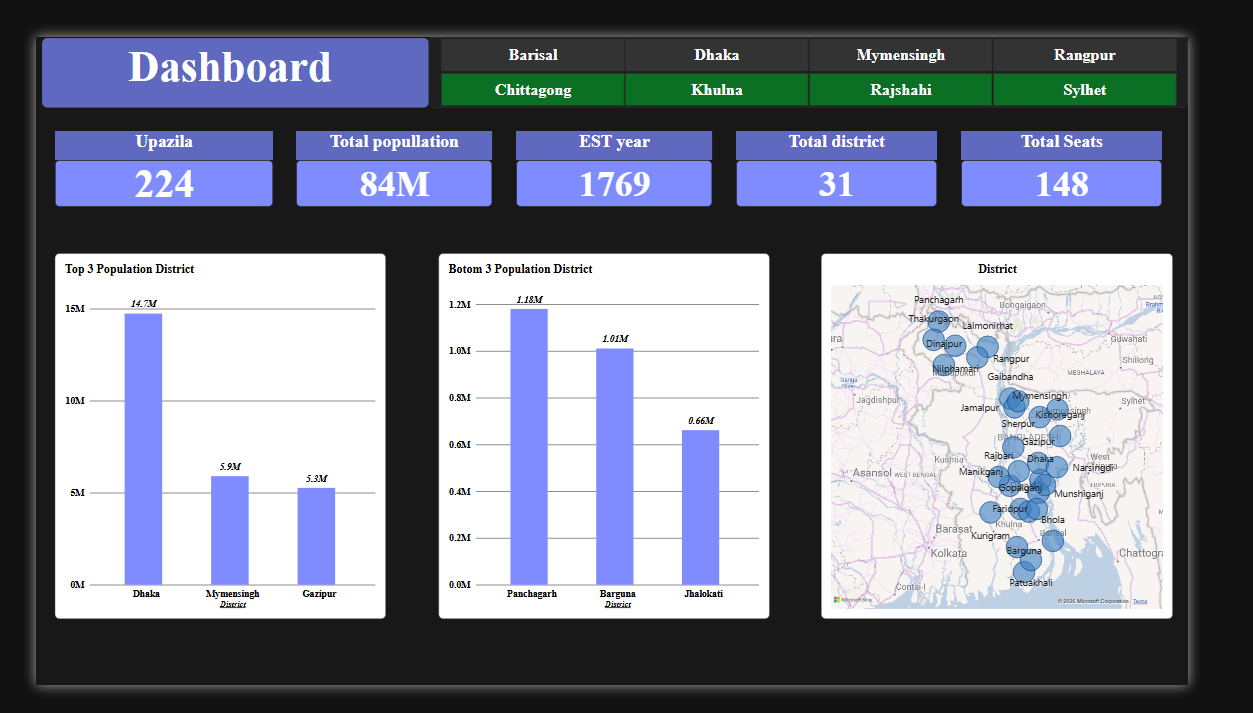

What the dashboard file says about the page in this screenshot:
{"tool":"powerbi","page":{"name":"Page 1","canvas":[1920,1080],"ordinal":0},"visuals":[{"type":"textbox","box":[10.3,3,644.3,115.3],"z":0},{"type":"slicer","fields":{"Values":["Table 03.Division"]},"box":[654.5,0,1265.9,117.3],"z":1000},{"type":"cardVisual","title":"Upazila","fields":{"Data":["Sum(Table 03.No. of Upazila [2])"]},"box":[30.9,156.4,364.3,127.6],"z":2000},{"type":"cardVisual","title":"Total popullation","fields":{"Data":["Sum(Table 03.Population(2022)[26])"]},"box":[434.3,156.4,327.3,127.6],"z":3000},{"type":"cardVisual","title":"EST year","fields":{"Data":["Min(Table 03.Est.)"]},"box":[800.7,156.4,327.3,127.6],"z":4000},{"type":"cardVisual","title":"Total district","fields":{"Data":["Table 03.Total District"]},"box":[1167.1,156.4,335.5,127.6],"z":5000},{"type":"cardVisual","title":"Total Seats","fields":{"Data":["Sum(Table 03.Seats in Parlament)"]},"box":[1541.7,156.4,335.5,127.6],"z":6000},{"type":"columnChart","title":"Top 3 Population District","fields":{"Category":["Table 03.District"],"Y":["Sum(Table 03.Population(2022)[26])"]},"box":[30.9,360.2,551.6,609.3],"z":7000},{"type":"columnChart","title":"Botom 3 Population District","fields":{"Category":["Table 03.District"],"Y":["Sum(Table 03.Population(2022)[26])"]},"box":[670,360.2,551.6,609.3],"z":8000},{"type":"map","fields":{"Category":["Table 03.District"]},"box":[1309.1,360.2,586.6,609.3],"z":8001}]}

Visuals, with their boxes in screenshot pixels (x1, y1, x2, y2), scaled from the page's 1920x1080 canvas onto the 1253x713 screenshot:
textbox: bbox(7, 2, 427, 78)
slicer - Table 03.Division: bbox(427, 0, 1252, 77)
"Upazila" cardVisual: bbox(20, 103, 258, 187)
"Total popullation" cardVisual: bbox(283, 103, 497, 187)
"EST year" cardVisual: bbox(523, 103, 736, 187)
"Total district" cardVisual: bbox(762, 103, 981, 187)
"Total Seats" cardVisual: bbox(1006, 103, 1225, 187)
"Top 3 Population District" columnChart: bbox(20, 238, 380, 640)
"Botom 3 Population District" columnChart: bbox(437, 238, 797, 640)
map - Table 03.District: bbox(854, 238, 1237, 640)
